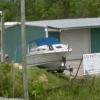Boat: (20, 33, 69, 74)
